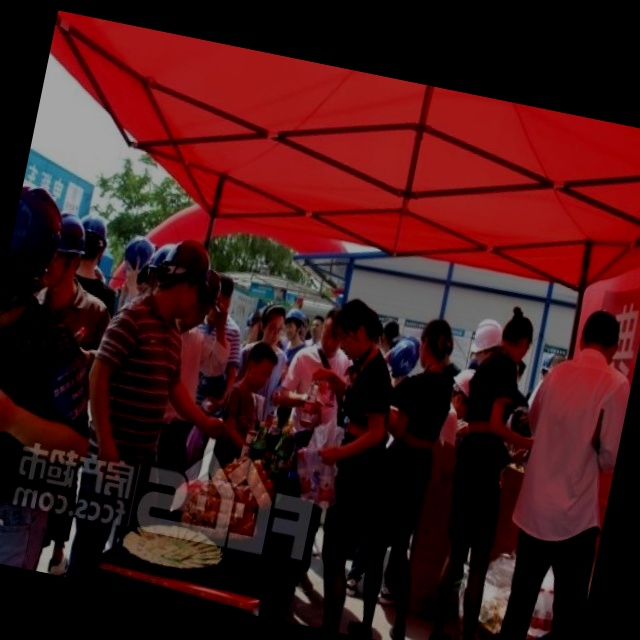Con_Casco: (151, 235, 218, 321)
Sin_Casco_Mascarrilla: (576, 306, 625, 363), (414, 316, 458, 374), (240, 341, 281, 395)
